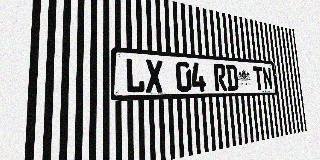0: (175, 61, 192, 92)
4: (191, 62, 206, 92)
D: (225, 64, 239, 91)
L: (125, 58, 145, 93)
N: (262, 67, 273, 90)
R: (213, 64, 227, 91)
T: (253, 66, 264, 90)
X: (145, 59, 163, 93)
